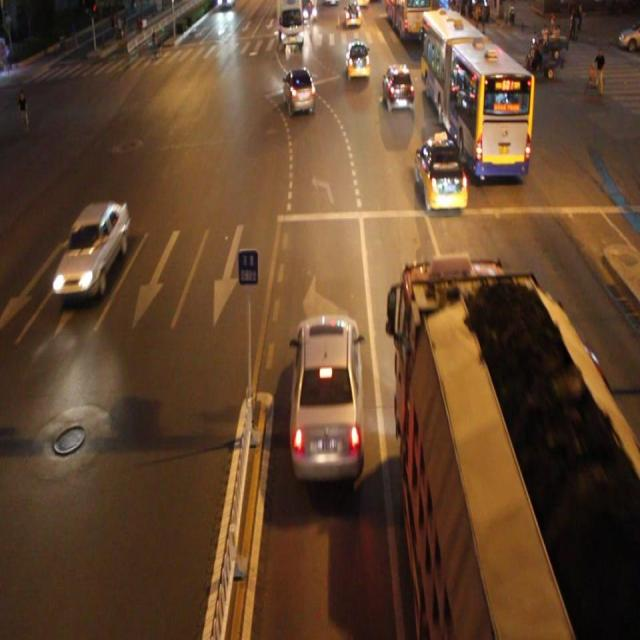bus: (398, 263, 640, 640)
car: (289, 314, 363, 481), (53, 199, 128, 301), (414, 135, 467, 212), (283, 68, 315, 118), (382, 65, 414, 112)
van: (421, 13, 530, 177)
